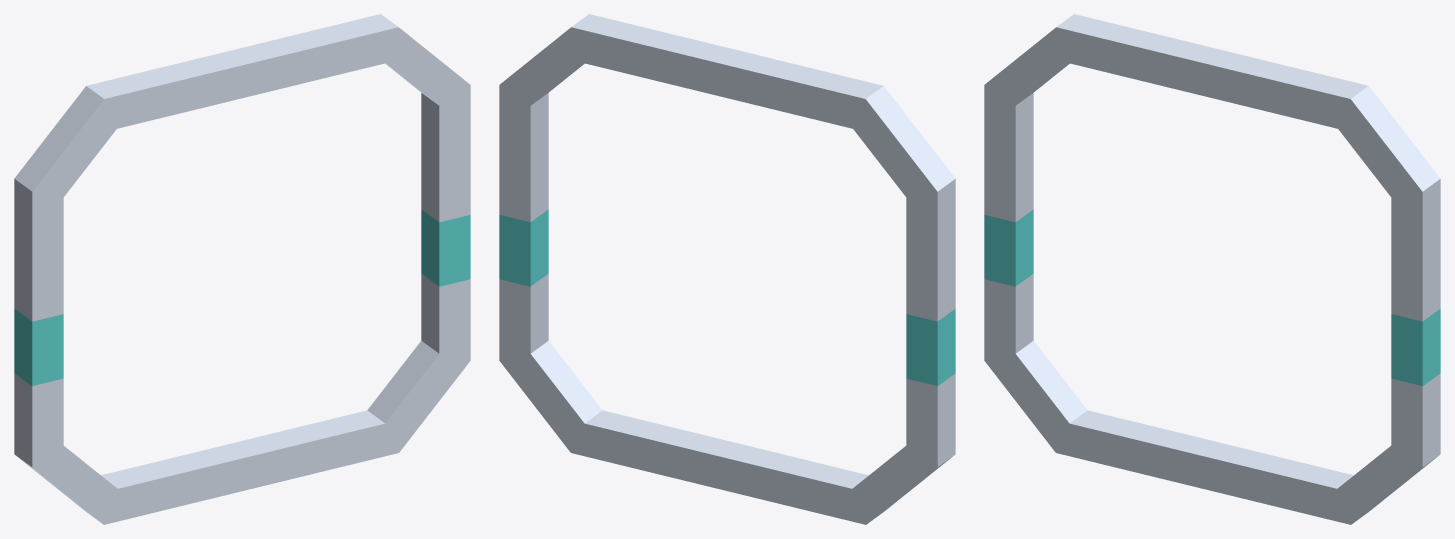
File: pipe.fbx
3 renders of one model, left to right at view 1: azimuth 30°, elevation 25°; view 2: azimuth 150°, elevation 25°; view 3: azimuth 330°, elevation 25°, orthographic.
Parts seen in each view (by area): view 1: pipe; view 2: pipe; view 3: pipe.
Boxes of the visible parts, left/top/right/bottom form: pipe: left=14, top=14, right=470, bottom=524; pipe: left=499, top=14, right=955, bottom=524; pipe: left=984, top=14, right=1440, bottom=524.
Size of the model in its own units: 14 by 13 by 1.
1 material, 1 textured.
